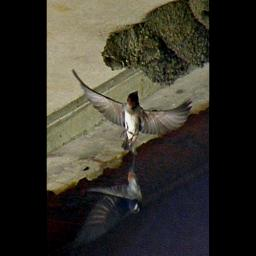Swallow: (70, 67, 195, 158)
